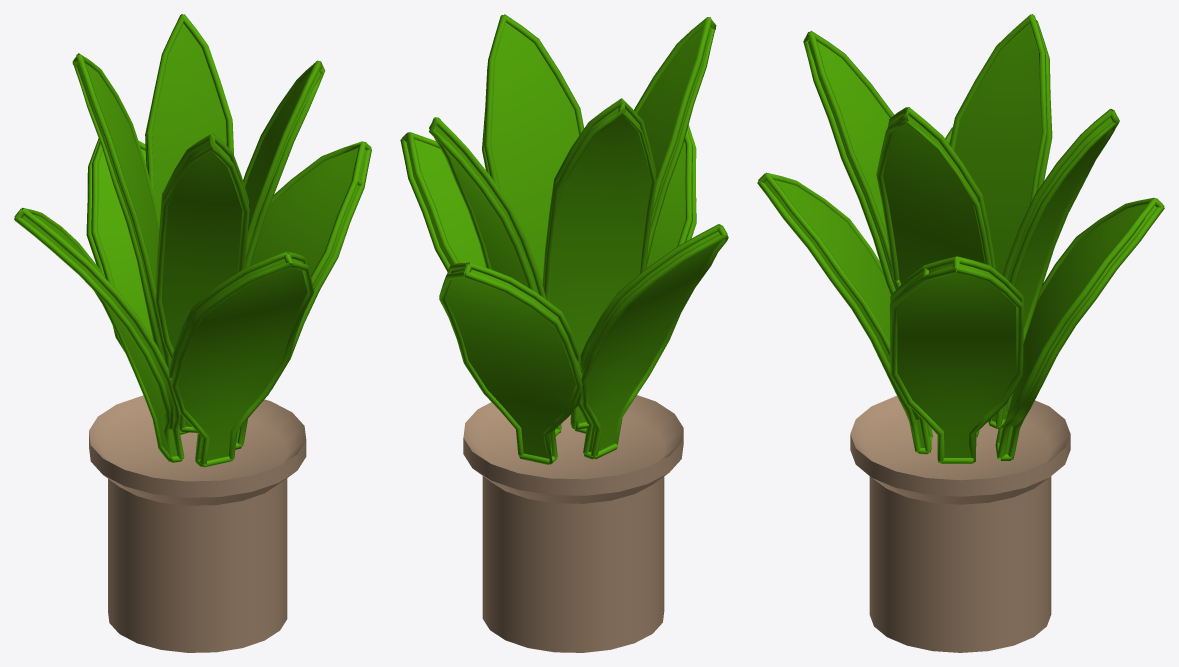
Rendered from plant.fbx.
3 renders of one model, left to right at view 1: azimuth 30°, elevation 25°; view 2: azimuth 150°, elevation 25°; view 3: azimuth 270°, elevation 25°, orthographic.
Parts seen in each view (by area): view 1: plant_highmesh1; view 2: plant_highmesh1; view 3: plant_highmesh1.
Part boxes in pixels (x1,y1,x2,y2): plant_highmesh1: [14, 14, 371, 652]; plant_highmesh1: [400, 14, 728, 652]; plant_highmesh1: [757, 14, 1164, 652].
Bounding box in the file's own units: 1.08 × 1.68 × 1.11.
